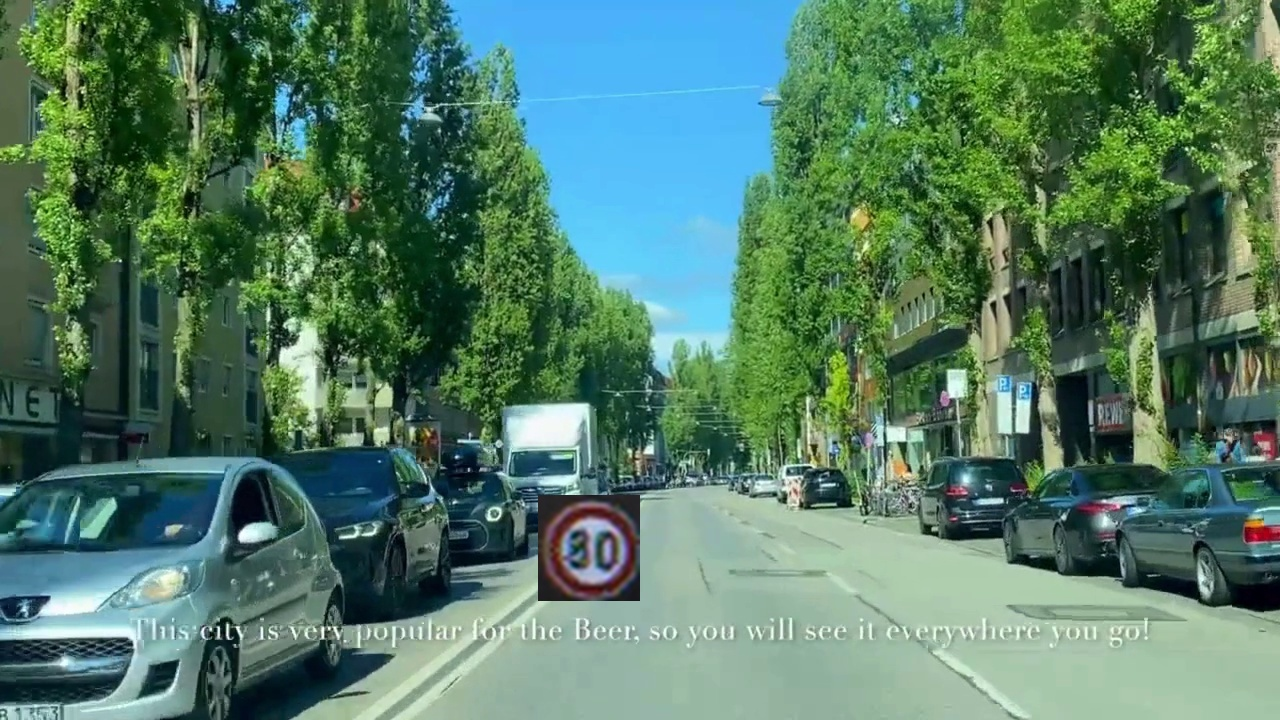Speed 80: (538, 495, 640, 601)
